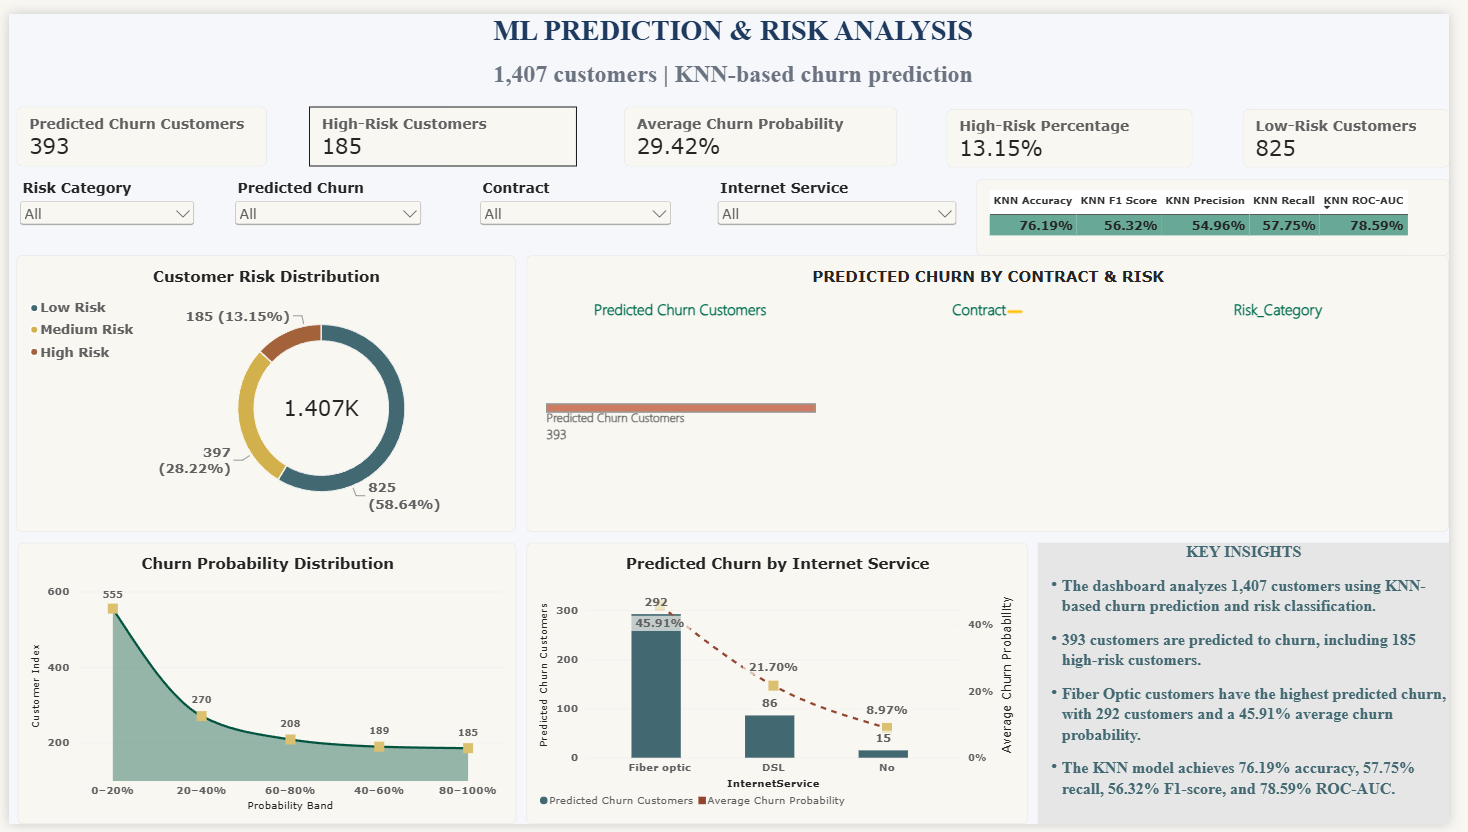

The page's visual inventory and layout, read from the dashboard file:
{"tool":"powerbi","page":{"name":"ML Prediction & Risk Analysis","canvas":[1920,1080],"ordinal":2},"visuals":[{"type":"textbox","box":[9.7,0,1910.7,110.7],"z":0},{"type":"cardVisual","fields":{"Data":["Telecom_ML.Predicted Churn Customers"]},"box":[10,124,334.1,80],"z":1000},{"type":"cardVisual","fields":{"Data":["Telecom_ML.High-Risk Customers"]},"box":[400.1,124,356.1,80],"z":2000},{"type":"cardVisual","fields":{"Data":["Telecom_ML.Average Churn Probability"]},"box":[820.2,124,364.1,80],"z":3000},{"type":"cardVisual","fields":{"Data":["Telecom_ML.High-Risk Percentage"]},"box":[1250.3,126,328.1,78],"z":4000},{"type":"cardVisual","fields":{"Data":["Telecom_ML.Low-Risk Customers"]},"box":[1644.3,126,276.1,78],"z":5000},{"type":"slicer","fields":{"Values":["Telecom_ML.Risk_Category"]},"box":[10,220,242.1,102],"z":6000},{"type":"slicer","fields":{"Values":["Telecom_ML.Predicted_Churn"]},"box":[296.1,220,258.1,102],"z":7000},{"type":"slicer","fields":{"Values":["Telecom_ML.Contract"]},"box":[624.1,220,264.1,102],"z":8000},{"type":"slicer","fields":{"Values":["Telecom_ML.InternetService"]},"box":[940.2,220,328.1,102],"z":9000},{"type":"donutChart","title":"Customer Risk Distribution","fields":{"Category":["Telecom_ML.Risk_Category"],"Y":["Count(Telecom_ML.Customer_Index)"]},"box":[10.2,321.6,665.2,369.2],"z":10000},{"type":"areaChart","title":"Churn Probability Distribution","fields":{"Category":["Telecom_ML.Probability Band"],"Y":["Count(Telecom_ML.Customer_Index)"]},"box":[12.2,704.9,665,375],"z":11000},{"type":"DecompositionTree1234567890ABCDEF1234567890AB","title":"PREDICTED CHURN BY CONTRACT & RISK","fields":{"analyze":["Telecom_ML.Predicted Churn Customers"],"explain":["Telecom_ML.Contract","Telecom_ML.Risk_Category"],"isContacted":["Min(Telecom_ML.InternetService)"]},"box":[689.7,322.4,1229.3,369],"z":12000},{"type":"lineClusteredColumnComboChart","title":"Predicted Churn by Internet Service","fields":{"Category":["Telecom_ML.InternetService"],"Y":["Telecom_ML.Predicted Churn Customers"],"Y2":["Telecom_ML.Average Churn Probability"]},"box":[689.3,704.9,668.5,375],"z":13000},{"type":"tableEx","fields":{"Values":["Telecom_ML.KNN Accuracy","Telecom_ML.KNN F1 Score","Telecom_ML.KNN Precision","Telecom_ML.KNN Recall","Telecom_ML.KNN ROC-AUC"]},"box":[1290,220,630,102],"z":14000},{"type":"textbox","box":[1371,705,549,375],"z":15000}]}

Visuals, with their boxes in screenshot pixels (x1, y1, x2, y2), scaled from the page's 1920x1080 canvas onto the 1468x832 screenshot:
textbox: (x1=7, y1=0, x2=1467, y2=85)
cardVisual - Telecom_ML.Predicted Churn Customers: (x1=8, y1=96, x2=263, y2=157)
cardVisual - Telecom_ML.High-Risk Customers: (x1=306, y1=96, x2=578, y2=157)
cardVisual - Telecom_ML.Average Churn Probability: (x1=627, y1=96, x2=905, y2=157)
cardVisual - Telecom_ML.High-Risk Percentage: (x1=956, y1=97, x2=1207, y2=157)
cardVisual - Telecom_ML.Low-Risk Customers: (x1=1257, y1=97, x2=1467, y2=157)
slicer - Telecom_ML.Risk_Category: (x1=8, y1=169, x2=193, y2=248)
slicer - Telecom_ML.Predicted_Churn: (x1=226, y1=169, x2=424, y2=248)
slicer - Telecom_ML.Contract: (x1=477, y1=169, x2=679, y2=248)
slicer - Telecom_ML.InternetService: (x1=719, y1=169, x2=970, y2=248)
"Customer Risk Distribution" donutChart: (x1=8, y1=248, x2=516, y2=532)
"Churn Probability Distribution" areaChart: (x1=9, y1=543, x2=518, y2=831)
"PREDICTED CHURN BY CONTRACT & RISK" DecompositionTree1234567890ABCDEF1234567890AB: (x1=527, y1=248, x2=1467, y2=533)
"Predicted Churn by Internet Service" lineClusteredColumnComboChart: (x1=527, y1=543, x2=1038, y2=831)
tableEx - Telecom_ML.KNN Accuracy x Telecom_ML.KNN F1 Score: (x1=986, y1=169, x2=1467, y2=248)
textbox: (x1=1048, y1=543, x2=1467, y2=831)
